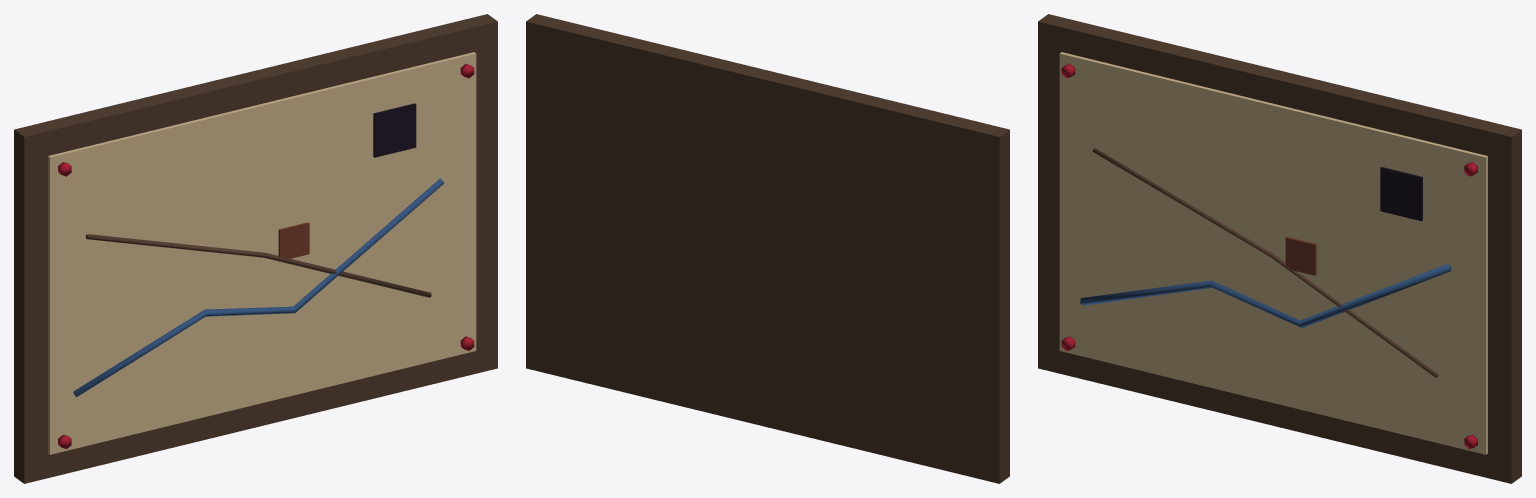
File: valley_map.glb
3 views of the same model, side by side, from view 1: azimuth 30°, elevation 25°; view 2: azimuth 150°, elevation 25°; view 3: azimuth 330°, elevation 25° (orthographic).
Parts seen in each view (by area): view 1: valley_map; view 2: valley_map; view 3: valley_map.
Boxes of the visible parts, left/top/right/bottom form: valley_map: left=14, top=14, right=497, bottom=483; valley_map: left=526, top=14, right=1009, bottom=483; valley_map: left=1038, top=14, right=1521, bottom=483.
Size of the model in its own units: 0.8 by 0.56 by 0.05.
